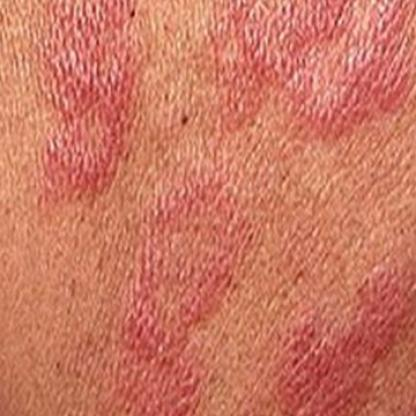Leprosy: (207, 0, 415, 138), (113, 168, 254, 360), (267, 252, 415, 415), (23, 0, 133, 195)
